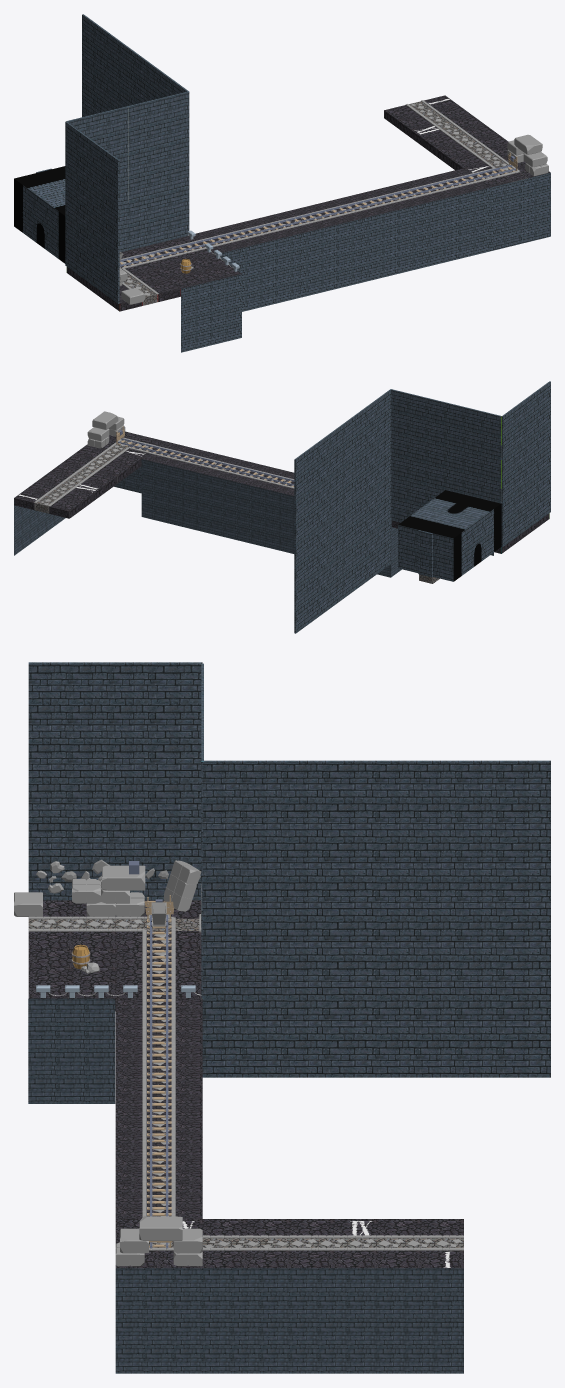
File: 6转折路二版.fbx
3 renders of one model, top to bottom at view 1: azimuth 30°, elevation 25°; view 2: azimuth 150°, elevation 25°; view 3: azimuth 270°, elevation 25°, orthographic. The views are drawn at different scales.
Parts seen in each view (by area): view 1: 地面贴片1.009, 地面贴片1.010, 地面贴片1.008, Circle.087, 地面贴片1.005, 地面贴片1.011, 墙2.012, 墙2.014, 墙2.016, 墙3.021, 墙3.020, 墙3.019 (+26 smaller); view 2: Circle.087, Cube.319, Cube.316, 墙2.013, 墙2.015, 墙2.012, 墙2.014, 墙3.031, 墙3.021, 墙3.022, 墙3.036, 墙3.041 (+22 smaller); view 3: 地面贴片1.012, 地面贴片1.014, 墙3.022, 墙3.021, 墙3.031, 墙3.026, 墙3.049, 墙3.020, 墙3.023, 墙3.025, 墙3.036, 墙3.041 (+25 smaller).
Part boxes in pixels (left/top/right/bottom): 地面贴片1.009: left=307, top=210, right=398, bottom=295; 地面贴片1.010: left=398, top=187, right=489, bottom=273; 地面贴片1.008: left=220, top=232, right=306, bottom=311; Circle.087: left=14, top=166, right=128, bottom=263; 地面贴片1.005: left=181, top=274, right=241, bottom=352; 地面贴片1.011: left=490, top=173, right=550, bottom=251; 墙2.012: left=128, top=91, right=189, bottom=154; 墙2.014: left=128, top=140, right=189, bottom=202; 墙2.016: left=128, top=188, right=189, bottom=249; 墙3.021: left=65, top=121, right=119, bottom=208; 墙3.020: left=65, top=170, right=119, bottom=255; 墙3.019: left=65, top=218, right=119, bottom=303; Circle.087: left=398, top=490, right=501, bottom=581; Cube.319: left=141, top=453, right=231, bottom=536; Cube.316: left=224, top=474, right=294, bottom=553; 墙2.013: left=445, top=402, right=501, bottom=459; 墙2.015: left=445, top=446, right=501, bottom=503; 墙2.012: left=391, top=389, right=445, bottom=446; 墙2.014: left=391, top=433, right=445, bottom=489; 墙3.031: left=294, top=424, right=343, bottom=503; 墙3.021: left=501, top=381, right=550, bottom=459; 墙3.022: left=343, top=389, right=391, bottom=467; 墙3.036: left=294, top=468, right=343, bottom=546; 墙3.041: left=294, top=512, right=343, bottom=589; 地面贴片1.012: left=115, top=1268, right=289, bottom=1373; 地面贴片1.014: left=289, top=1268, right=463, bottom=1373; 墙3.022: left=202, top=760, right=376, bottom=840; 墙3.021: left=28, top=662, right=202, bottom=742; 墙3.031: left=377, top=760, right=550, bottom=840; 墙3.026: left=202, top=998, right=376, bottom=1077; 墙3.049: left=377, top=998, right=550, bottom=1077; 墙3.020: left=28, top=742, right=201, bottom=821; 墙3.023: left=202, top=841, right=376, bottom=919; 墙3.025: left=202, top=920, right=376, bottom=998; 墙3.036: left=377, top=841, right=550, bottom=919; 墙3.041: left=377, top=920, right=550, bottom=998.
Size of the model in its own units: 6023 by 2600 by 3700.
